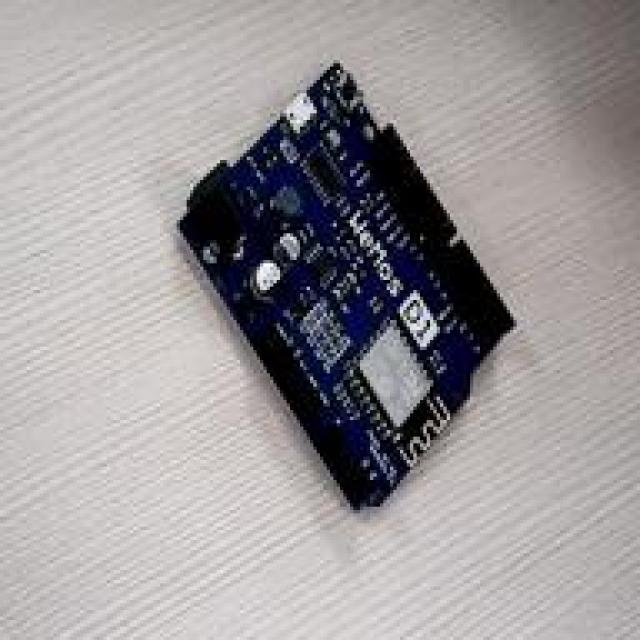Wemos: (181, 64, 511, 504)
